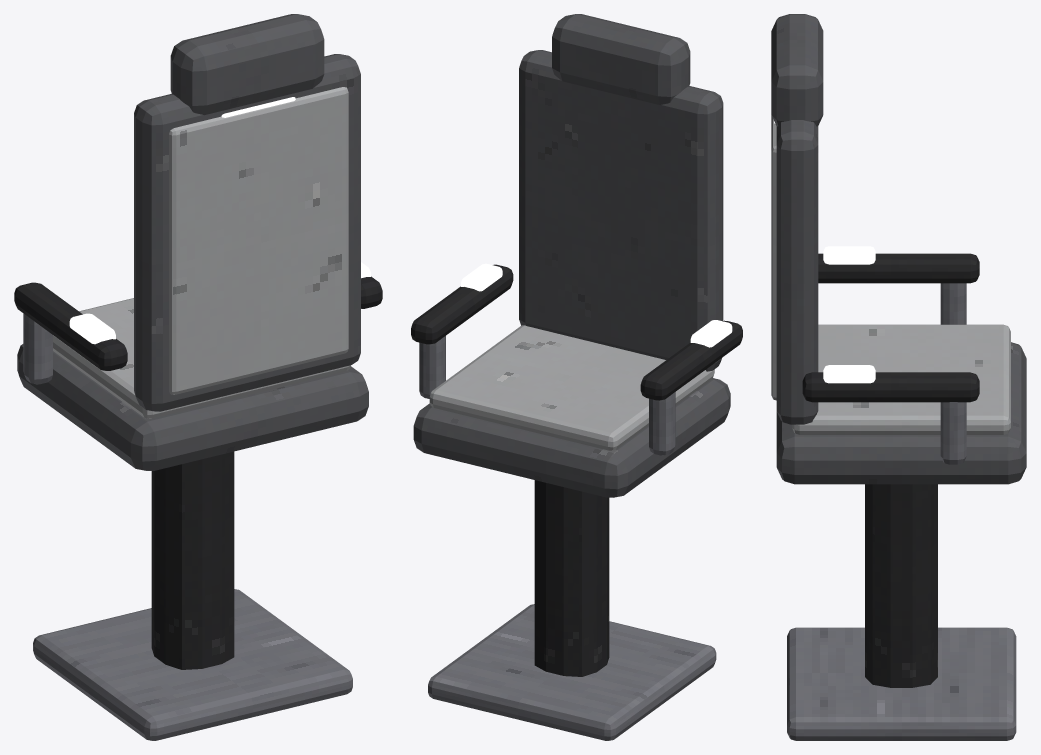
The model's file is decor_bridge_captains_chair.glb.
3 views of the same model, side by side, from view 1: azimuth 30°, elevation 25°; view 2: azimuth 150°, elevation 25°; view 3: azimuth 270°, elevation 25° (orthographic). The views are drawn at different scales.
Parts seen in each view (by area): view 1: DEC_BridgeCaptainsChair__Backrest_Pad, DEC_BridgeCaptainsChair__Base_Foot, DEC_BridgeCaptainsChair__Backrest, DEC_BridgeCaptainsChair__Seat, DEC_BridgeCaptainsChair__Base_Column, DEC_BridgeCaptainsChair__Headrest, DEC_BridgeCaptainsChair__Seat_Cushion, DEC_BridgeCaptainsChair__Armrest_L, DEC_BridgeCaptainsChair__Armrest_Post_L, DEC_BridgeCaptainsChair__Armpad_L, DEC_BridgeCaptainsChair__Armrest_R; view 2: DEC_BridgeCaptainsChair__Backrest, DEC_BridgeCaptainsChair__Base_Foot, DEC_BridgeCaptainsChair__Seat_Cushion, DEC_BridgeCaptainsChair__Seat, DEC_BridgeCaptainsChair__Base_Column, DEC_BridgeCaptainsChair__Headrest, DEC_BridgeCaptainsChair__Armrest_R, DEC_BridgeCaptainsChair__Armrest_L, DEC_BridgeCaptainsChair__Armrest_Post_L, DEC_BridgeCaptainsChair__Armrest_Post_R, DEC_BridgeCaptainsChair__Armpad_L, DEC_BridgeCaptainsChair__Armpad_R; view 3: DEC_BridgeCaptainsChair__Base_Foot, DEC_BridgeCaptainsChair__Seat_Cushion, DEC_BridgeCaptainsChair__Base_Column, DEC_BridgeCaptainsChair__Seat, DEC_BridgeCaptainsChair__Backrest, DEC_BridgeCaptainsChair__Headrest, DEC_BridgeCaptainsChair__Armrest_R, DEC_BridgeCaptainsChair__Armrest_L, DEC_BridgeCaptainsChair__Backrest_Pad, DEC_BridgeCaptainsChair__Armrest_Post_R, DEC_BridgeCaptainsChair__Armrest_Post_L, DEC_BridgeCaptainsChair__Armpad_R (+1 smaller).
Part boxes in pixels (x1=…): DEC_BridgeCaptainsChair__Backrest_Pad: x1=169, y1=87, x2=348, y2=394; DEC_BridgeCaptainsChair__Base_Foot: x1=33, y1=589, x2=352, y2=740; DEC_BridgeCaptainsChair__Backrest: x1=134, y1=54, x2=360, y2=411; DEC_BridgeCaptainsChair__Seat: x1=17, y1=344, x2=368, y2=470; DEC_BridgeCaptainsChair__Base_Column: x1=151, y1=451, x2=234, y2=669; DEC_BridgeCaptainsChair__Headrest: x1=170, y1=14, x2=324, y2=115; DEC_BridgeCaptainsChair__Seat_Cushion: x1=53, y1=298, x2=350, y2=418; DEC_BridgeCaptainsChair__Armrest_L: x1=14, y1=282, x2=127, y2=370; DEC_BridgeCaptainsChair__Armrest_Post_L: x1=23, y1=313, x2=52, y2=384; DEC_BridgeCaptainsChair__Armpad_L: x1=69, y1=313, x2=115, y2=344; DEC_BridgeCaptainsChair__Armrest_R: x1=361, y1=276, x2=382, y2=308; DEC_BridgeCaptainsChair__Backrest: x1=519, y1=50, x2=723, y2=371; DEC_BridgeCaptainsChair__Base_Foot: x1=428, y1=604, x2=716, y2=740; DEC_BridgeCaptainsChair__Seat_Cushion: x1=429, y1=325, x2=714, y2=450; DEC_BridgeCaptainsChair__Seat: x1=413, y1=378, x2=730, y2=497; DEC_BridgeCaptainsChair__Base_Column: x1=534, y1=480, x2=609, y2=676; DEC_BridgeCaptainsChair__Headrest: x1=552, y1=14, x2=690, y2=105; DEC_BridgeCaptainsChair__Armrest_R: x1=411, y1=264, x2=513, y2=344; DEC_BridgeCaptainsChair__Armrest_L: x1=640, y1=320, x2=742, y2=400; DEC_BridgeCaptainsChair__Armrest_Post_L: x1=649, y1=392, x2=675, y2=455; DEC_BridgeCaptainsChair__Armrest_Post_R: x1=419, y1=336, x2=445, y2=398; DEC_BridgeCaptainsChair__Armpad_L: x1=690, y1=320, x2=732, y2=347; DEC_BridgeCaptainsChair__Armpad_R: x1=461, y1=263, x2=502, y2=291; DEC_BridgeCaptainsChair__Base_Foot: x1=787, y1=627, x2=1016, y2=740; DEC_BridgeCaptainsChair__Seat_Cushion: x1=792, y1=324, x2=1010, y2=434; DEC_BridgeCaptainsChair__Base_Column: x1=865, y1=484, x2=937, y2=687; DEC_BridgeCaptainsChair__Seat: x1=776, y1=342, x2=1026, y2=484; DEC_BridgeCaptainsChair__Backrest: x1=776, y1=120, x2=818, y2=424; DEC_BridgeCaptainsChair__Headrest: x1=771, y1=14, x2=823, y2=126; DEC_BridgeCaptainsChair__Armrest_R: x1=802, y1=372, x2=979, y2=402; DEC_BridgeCaptainsChair__Armrest_L: x1=818, y1=253, x2=979, y2=283; DEC_BridgeCaptainsChair__Backrest_Pad: x1=771, y1=115, x2=776, y2=400; DEC_BridgeCaptainsChair__Armrest_Post_R: x1=940, y1=402, x2=966, y2=464; DEC_BridgeCaptainsChair__Armrest_Post_L: x1=940, y1=283, x2=966, y2=324; DEC_BridgeCaptainsChair__Armpad_R: x1=823, y1=365, x2=875, y2=383.
Size of the model in its own units: 0.6 by 1.39 by 0.49.
Materials: 5 (4 with a texture image).
